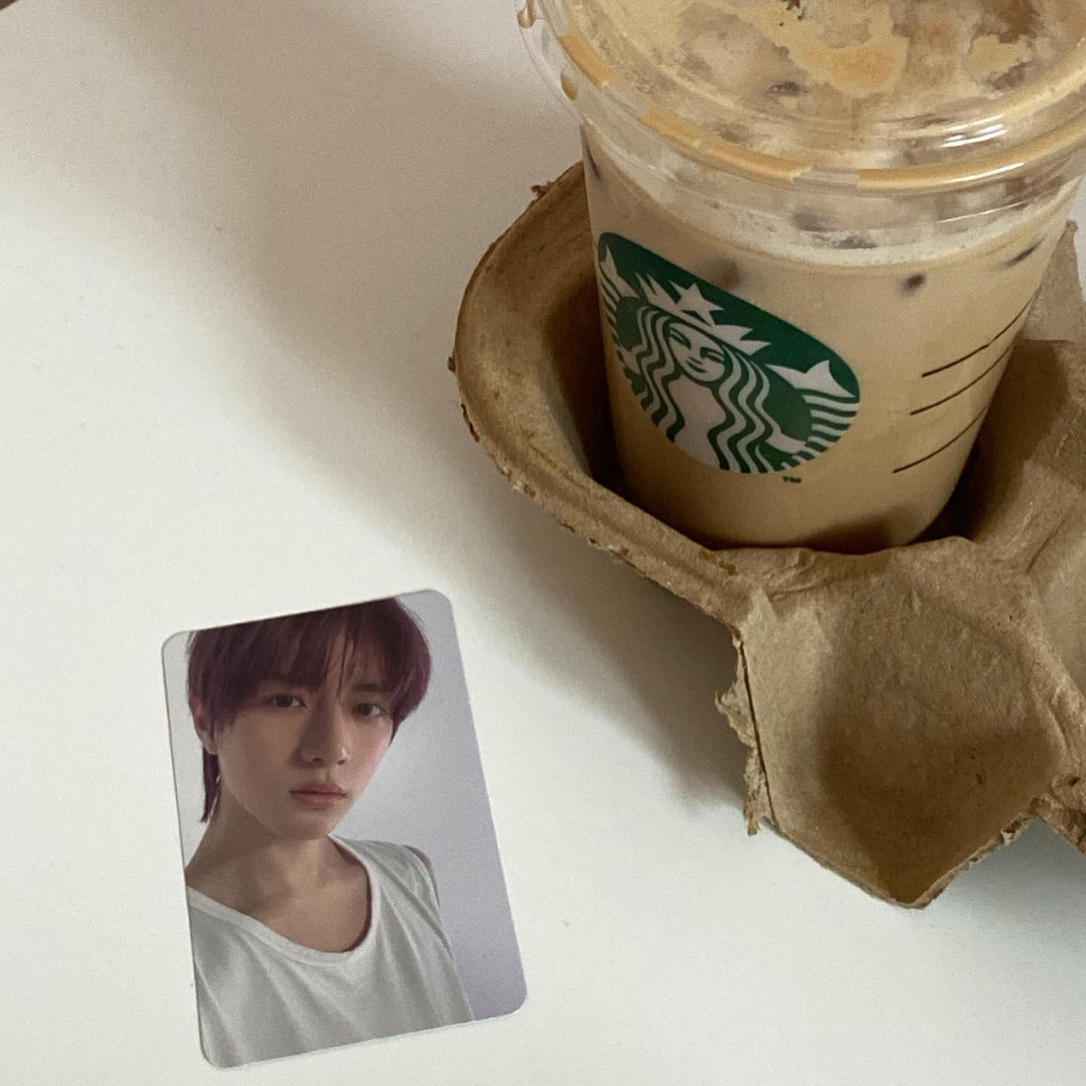cup-disposable: (506, 0, 1086, 545)
